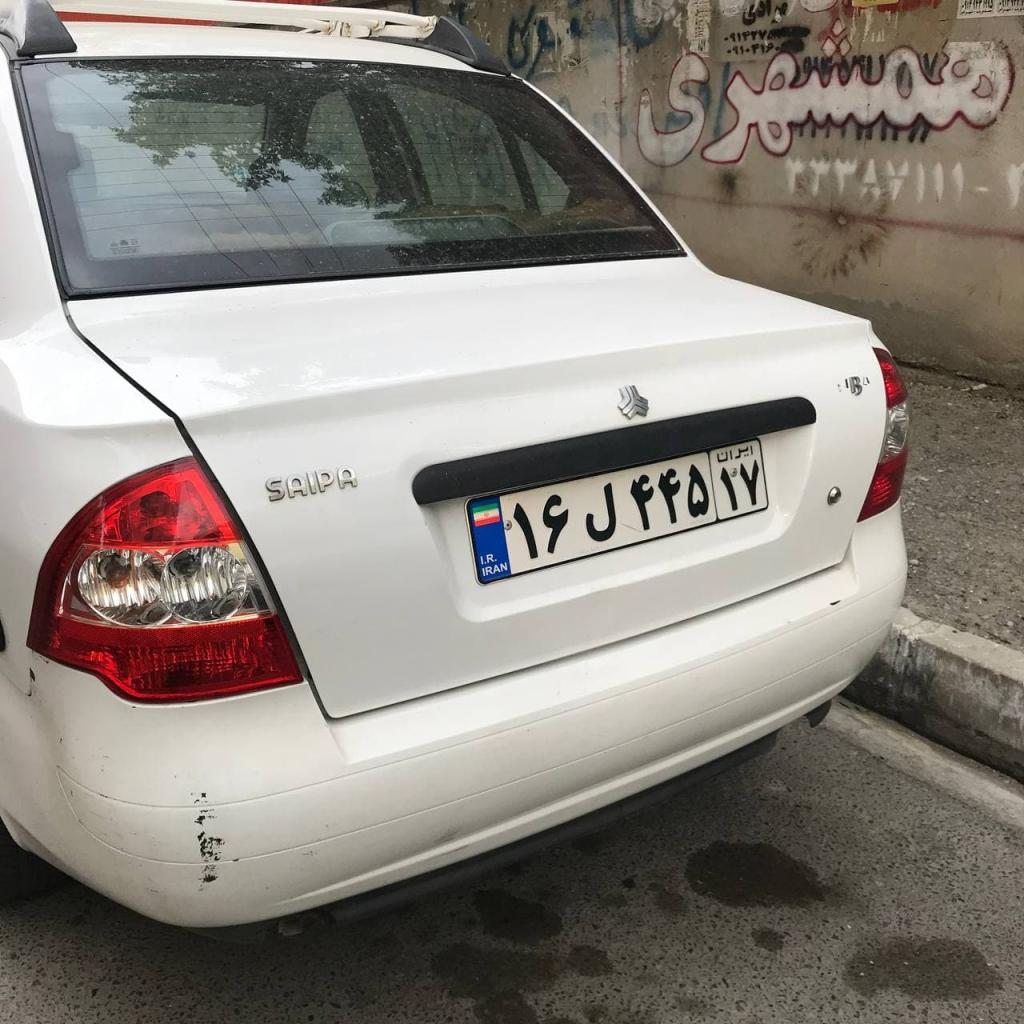Plates: (464, 438, 769, 584)
